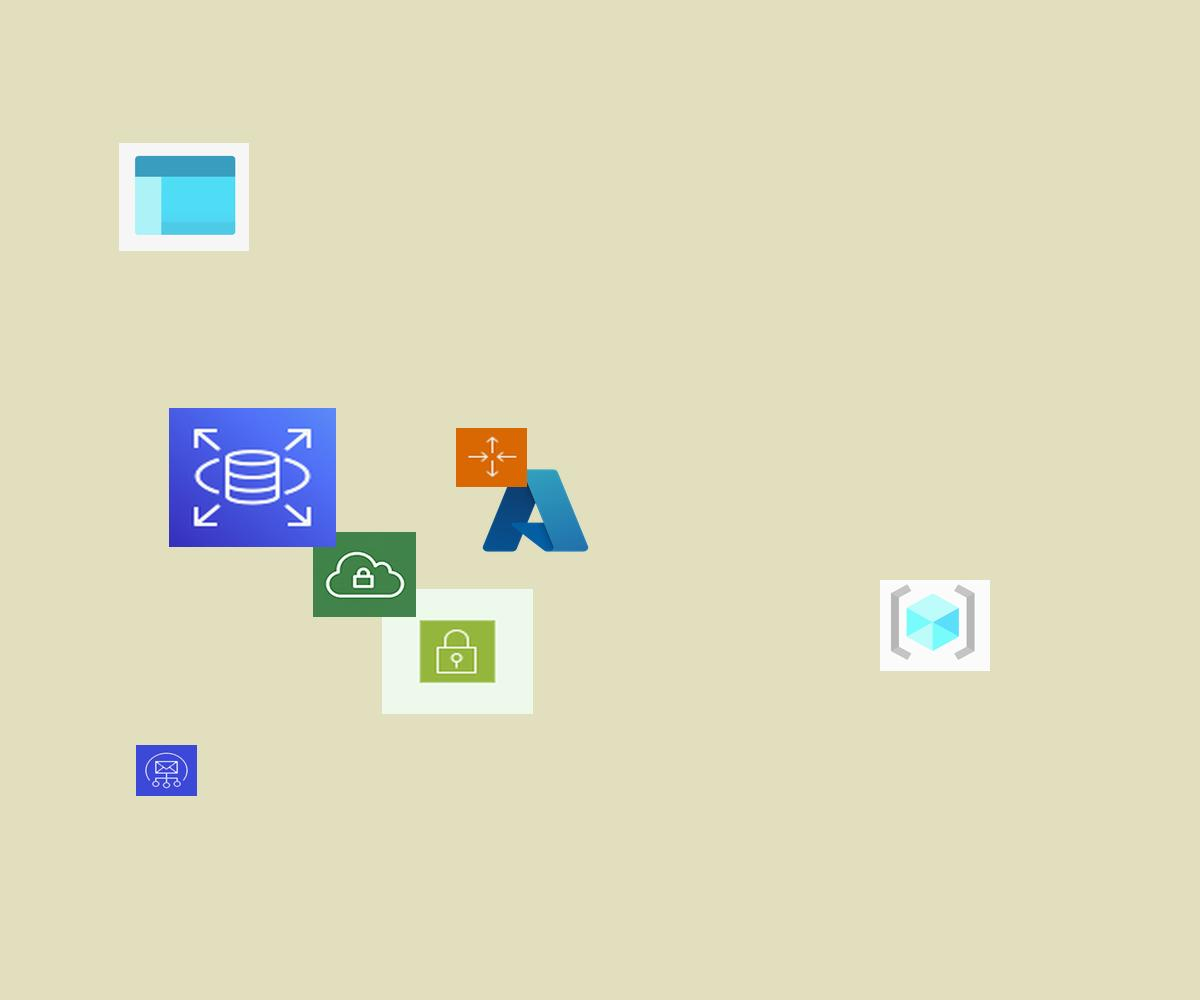AWS-Private_vpc: (313, 532, 416, 617)
AWS-Public-subnet: (382, 589, 533, 714)
AWS-RDS: (169, 408, 336, 547)
AWS-Scaling-group: (456, 428, 527, 487)
AWS-Simple-Email-Service: (136, 745, 197, 796)
Azure_management-portal: (119, 143, 249, 251)
Azure_resource_group: (880, 580, 990, 671)
Azure_services: (478, 463, 593, 558)
